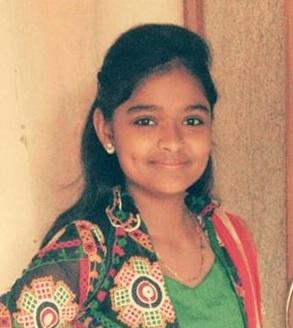No Mask: (90, 32, 225, 216)
